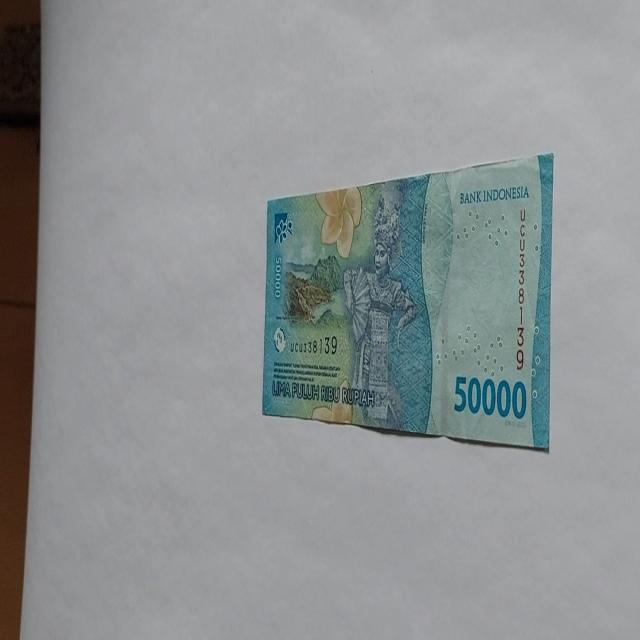lima puluh ribu rupiah: (261, 150, 554, 452)
